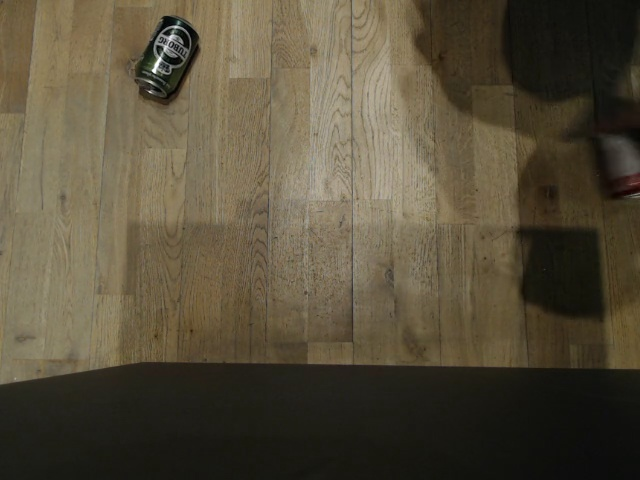beer: (132, 13, 203, 102)
cola: (590, 99, 640, 204)
